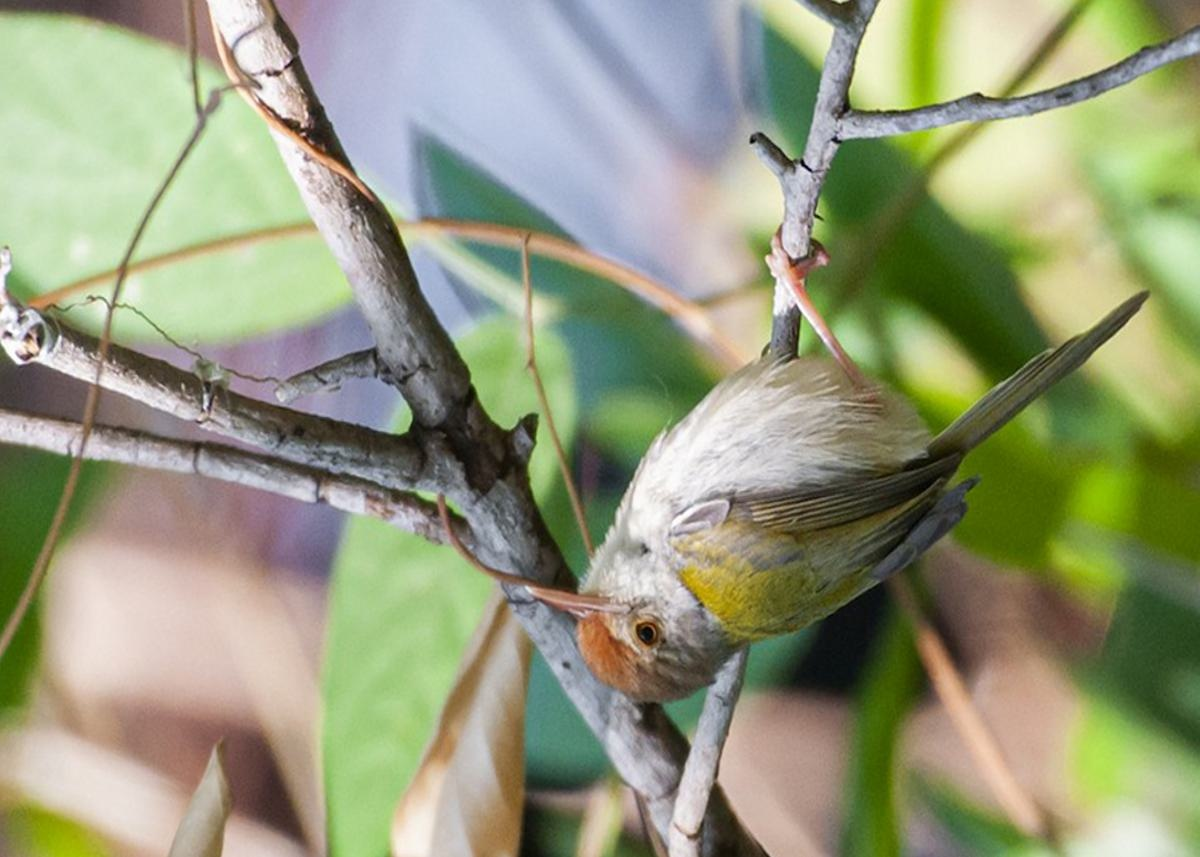tailorbird: (526, 292, 1097, 741)
